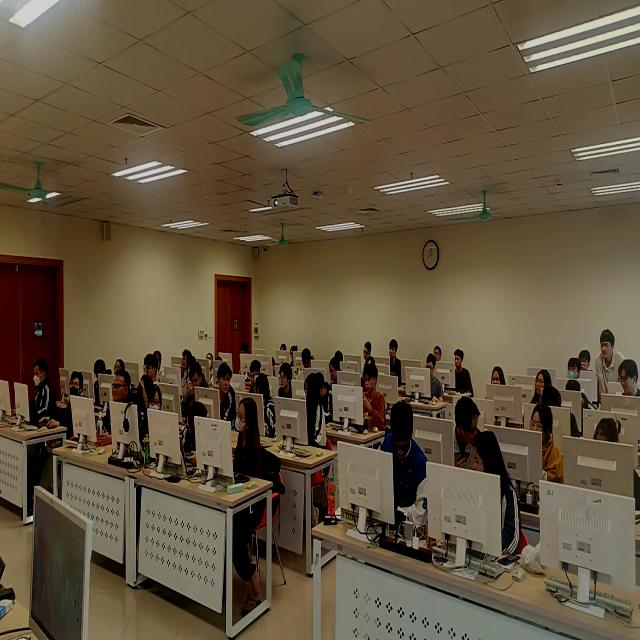raise_head: (226, 403, 262, 517), (104, 375, 134, 456), (137, 388, 167, 459), (59, 375, 85, 454), (486, 367, 511, 423), (525, 369, 552, 411), (387, 340, 405, 392), (579, 348, 595, 378), (564, 360, 581, 383), (363, 340, 379, 364), (180, 351, 191, 377), (433, 343, 444, 363)
stand: (597, 330, 621, 409)
using_computer: (581, 417, 639, 506), (519, 406, 558, 492), (10, 358, 52, 421), (356, 372, 385, 440), (411, 357, 443, 412), (441, 353, 475, 404), (179, 368, 210, 419), (543, 392, 576, 435), (88, 355, 108, 408), (271, 365, 297, 404), (322, 360, 345, 397), (302, 344, 316, 375), (142, 361, 158, 385)
